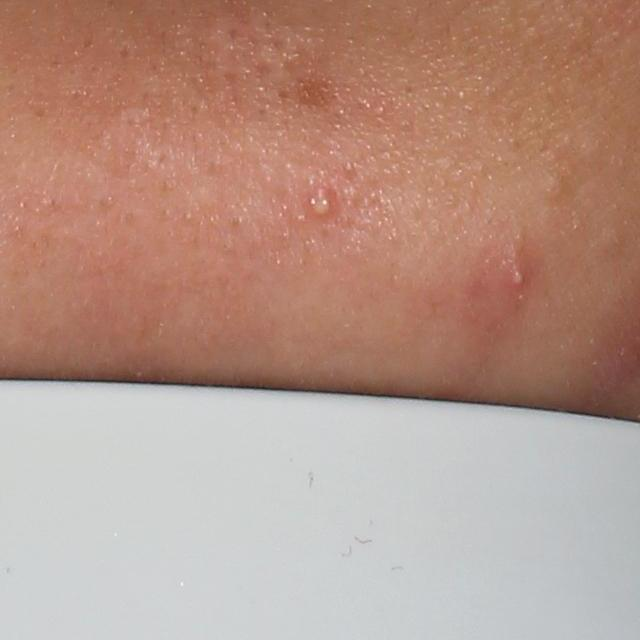pustule: (306, 186, 340, 220), (507, 263, 533, 292)
